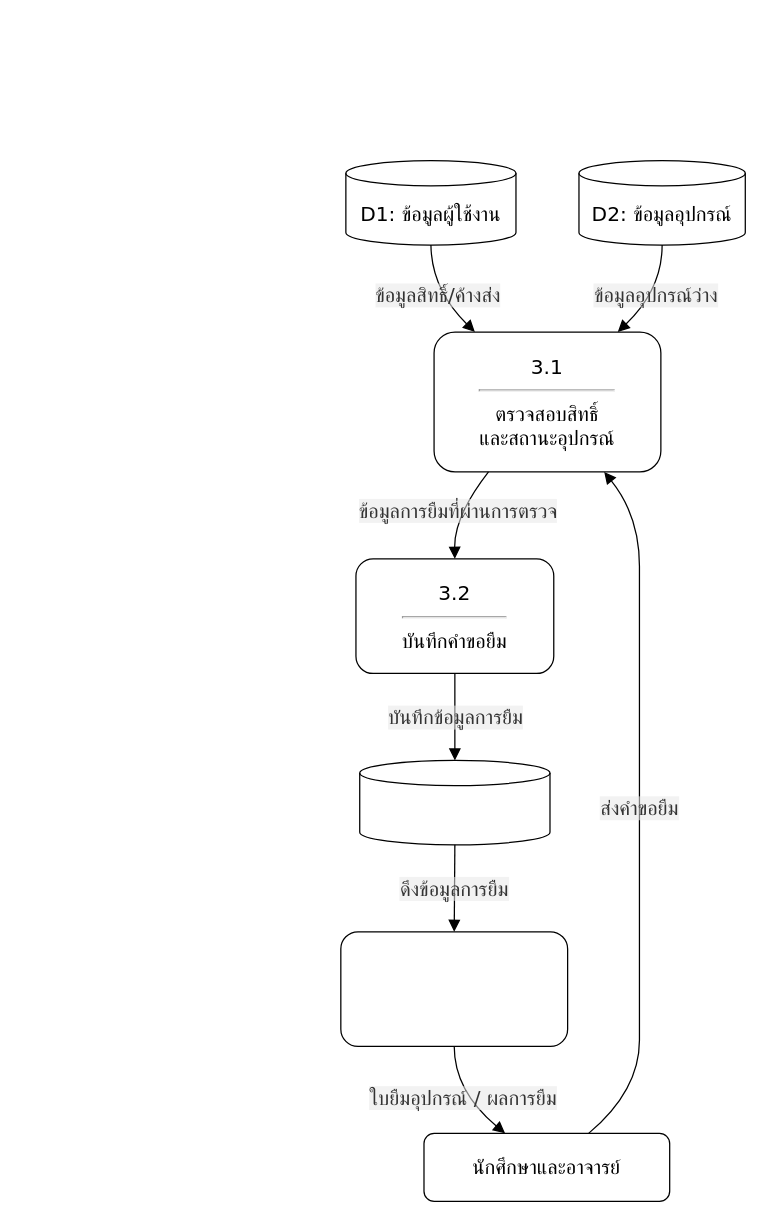
Some shapes in this 767 by 1223 pixel diagram are drawn without their labels. Each missing label, with the box of its shape:
3.3 ออกเอกสารการยืม: (340, 931, 568, 1046)
D3: ข้อมูลการยืม-คืน: (358, 759, 550, 845)
